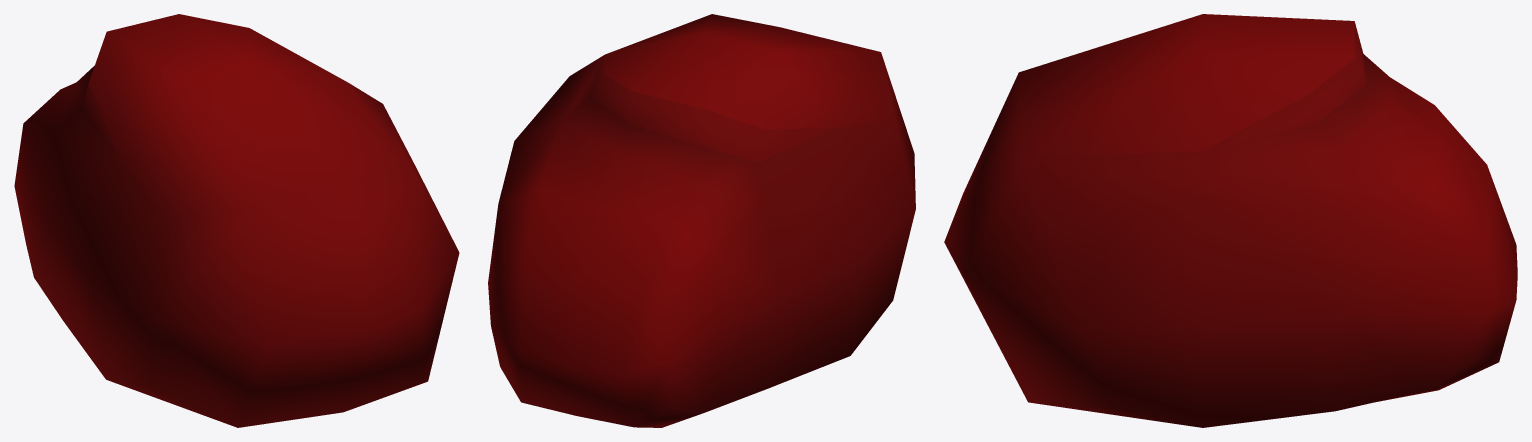
File: geology-pebbles-coloredpebble_v3.fbx
3 views of the same model, side by side, from view 1: azimuth 30°, elevation 25°; view 2: azimuth 150°, elevation 25°; view 3: azimuth 270°, elevation 25° (orthographic). The views are drawn at different scales.
Parts seen in each view (by area): view 1: ColoredPebble_v3; view 2: ColoredPebble_v3; view 3: ColoredPebble_v3.
Part boxes in pixels (<box>): ColoredPebble_v3: <box>14,14,459,427</box>; ColoredPebble_v3: <box>488,14,915,427</box>; ColoredPebble_v3: <box>944,14,1517,427</box>.
Bounding box in the file's own units: 8.7 × 8.02 × 12.83.
